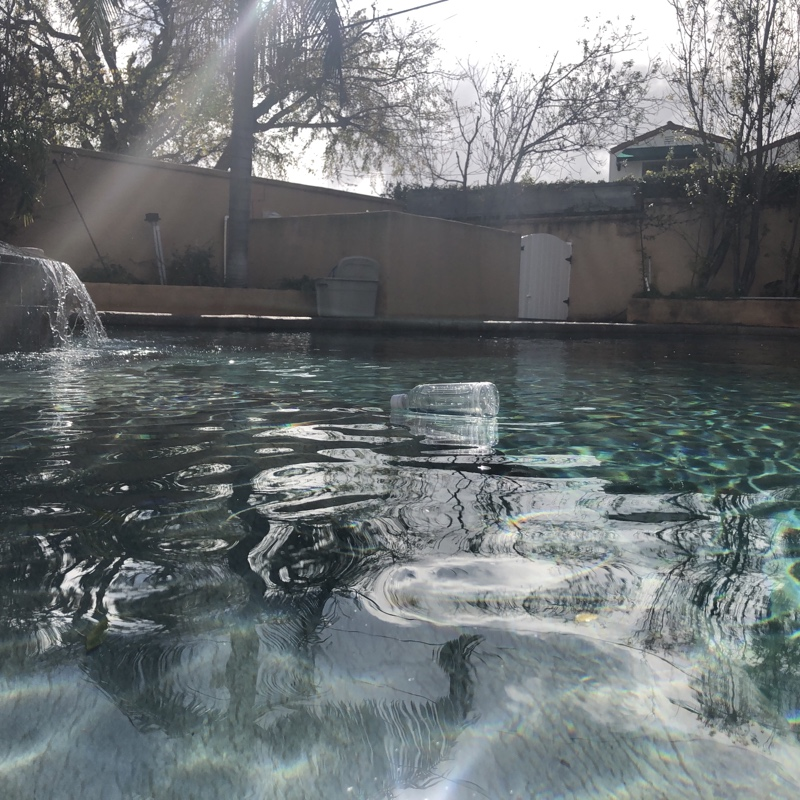Plastic Bottle: (386, 375, 499, 426)
